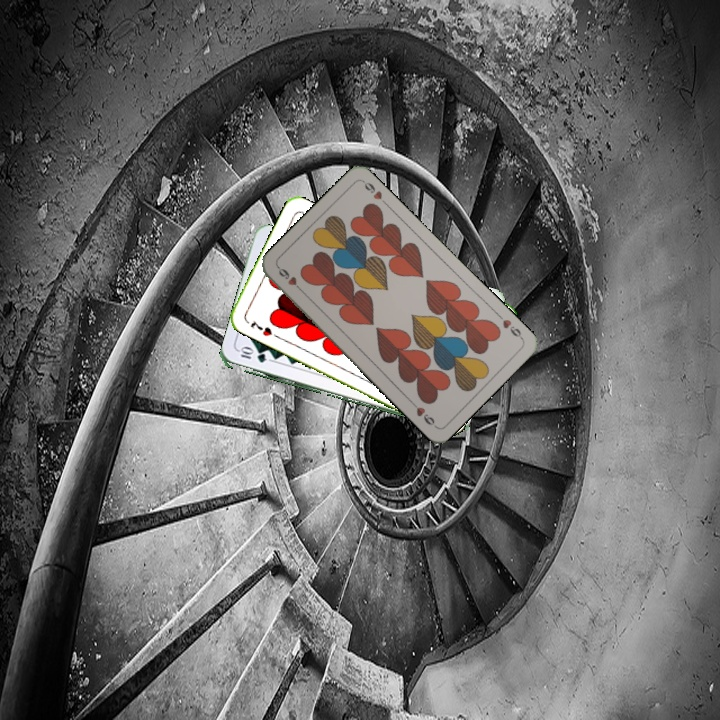G10: (235, 345, 269, 365)
H7: (246, 317, 275, 339)
H9: (274, 263, 306, 295), (499, 315, 525, 342)
